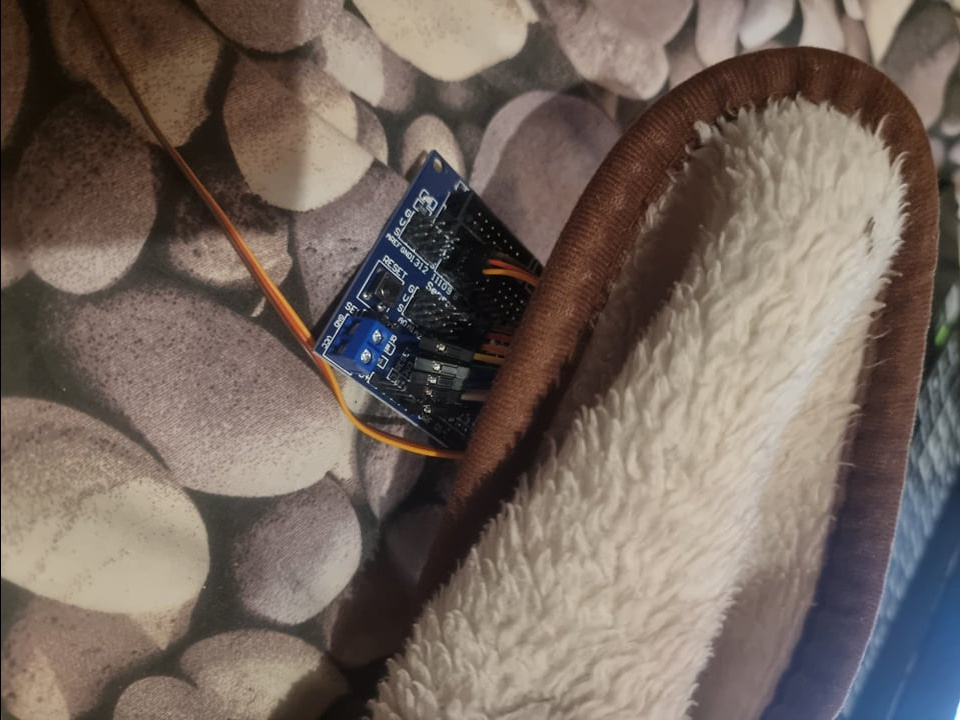5V EXPANSION: (309, 151, 555, 453)
